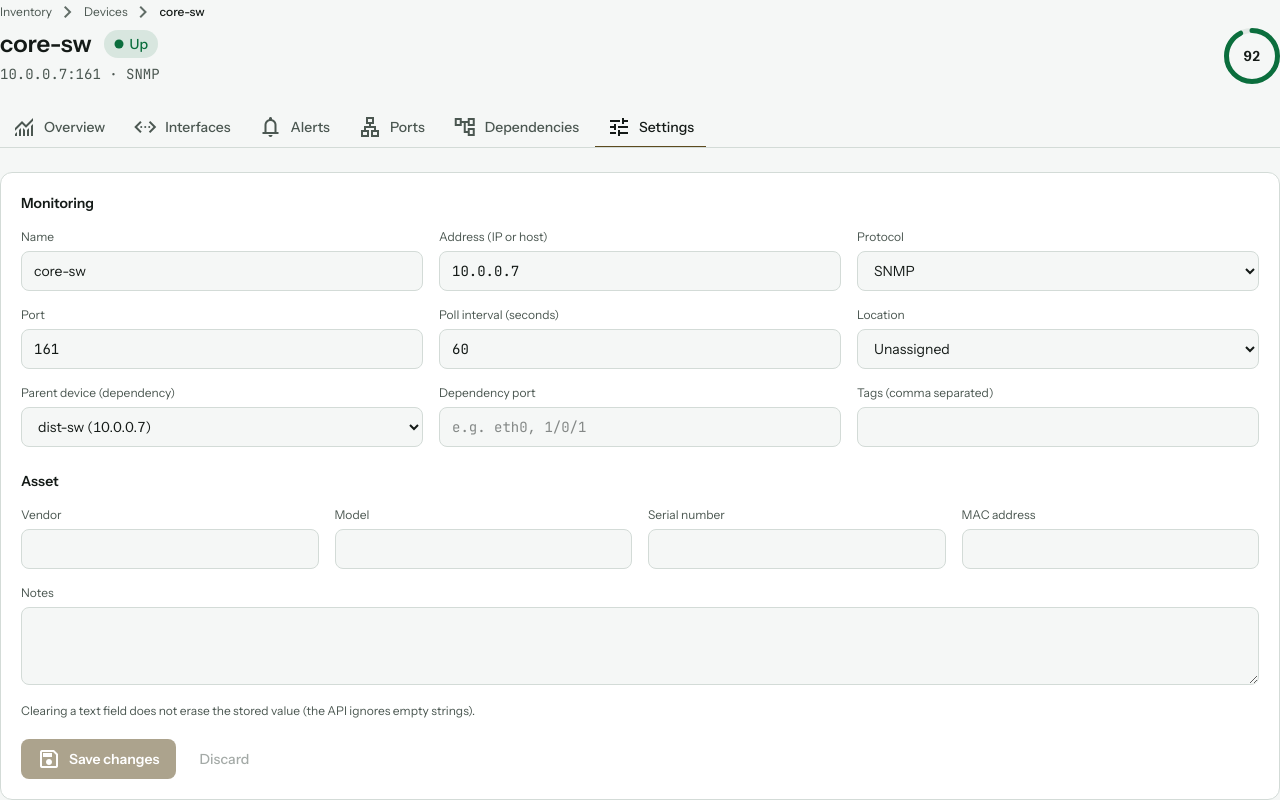
Test case: Device detail page › saves only changed fields and deletes after typing the name
Replace the text in the field labelled "Poll interval (seconds)" with "30" at (640, 349), box [439,329,841,369]
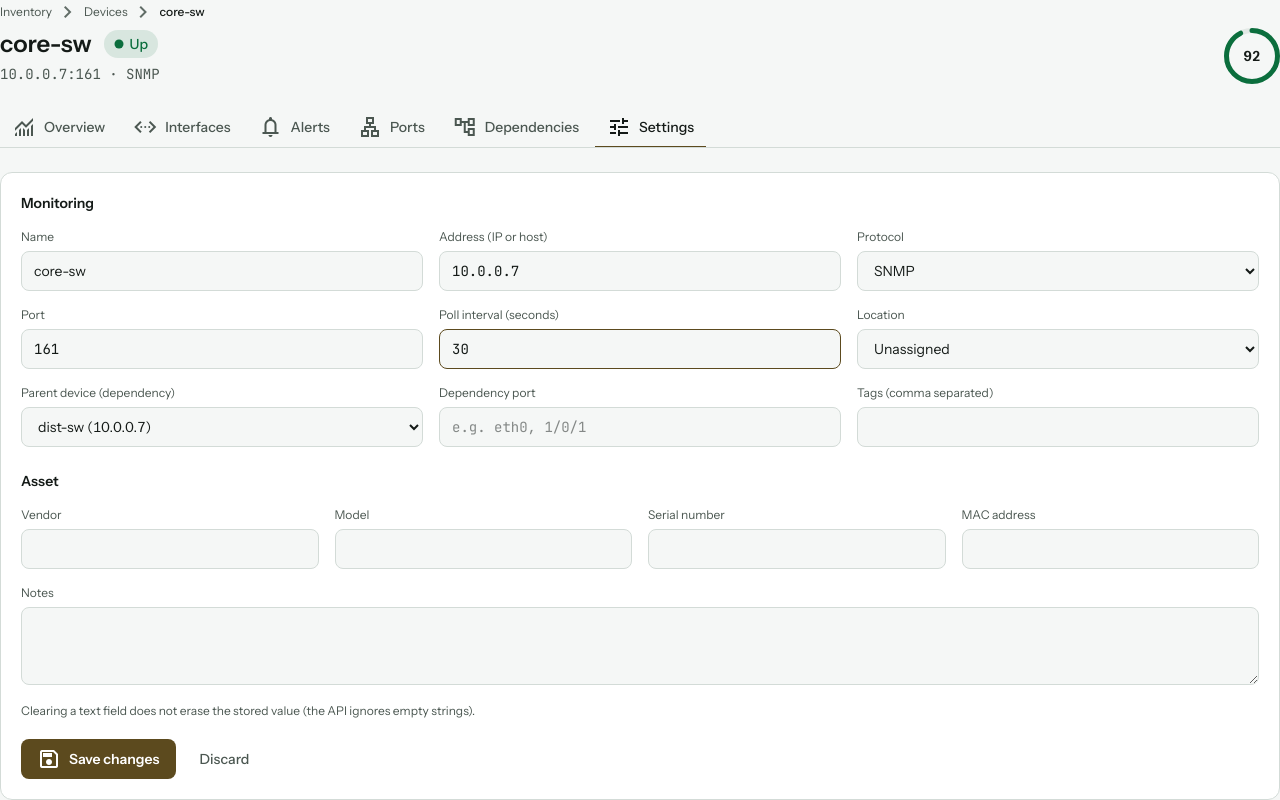
Click the button "Save changes" at (98, 759), box [21,739,176,779]
(page scrolled)
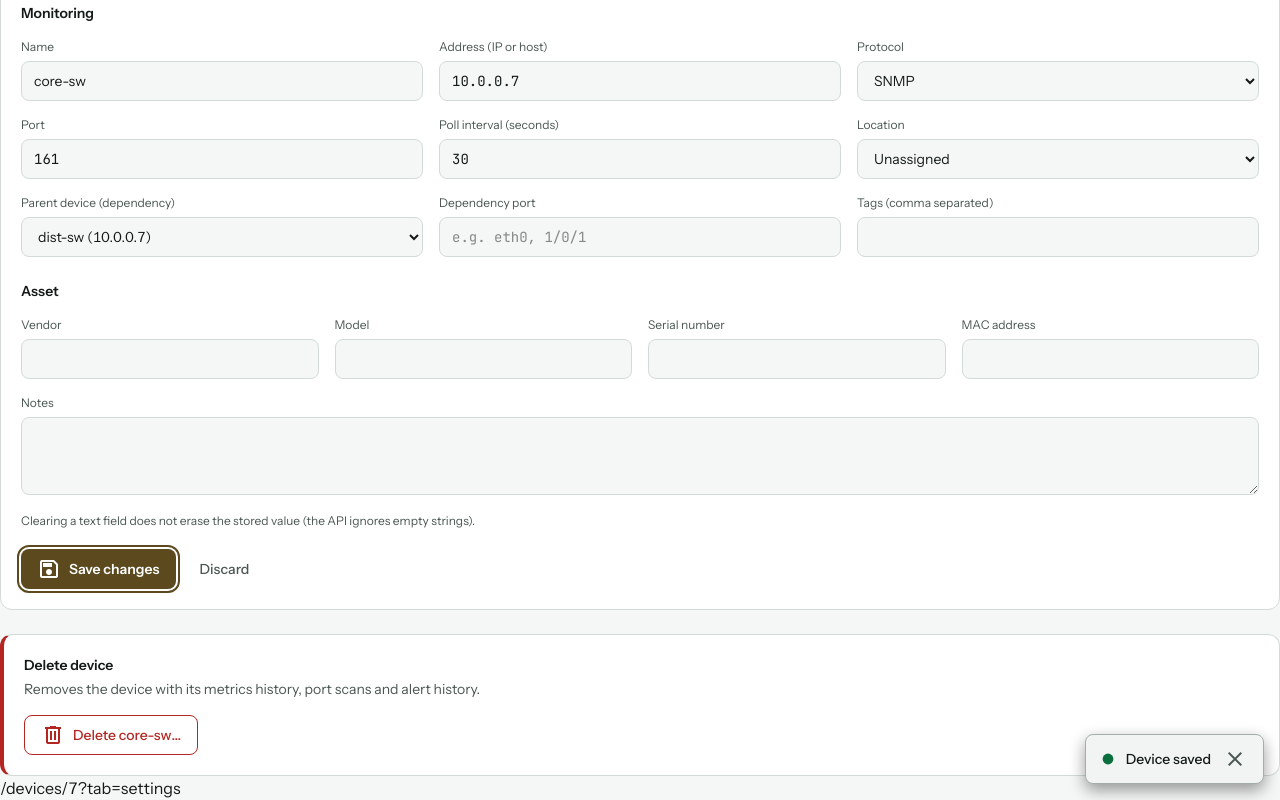
Check: the text "Device saved" is shown, box [1126,749,1211,769]
Click the button "Delete core-sw…" at (111, 735), box [24,715,198,755]
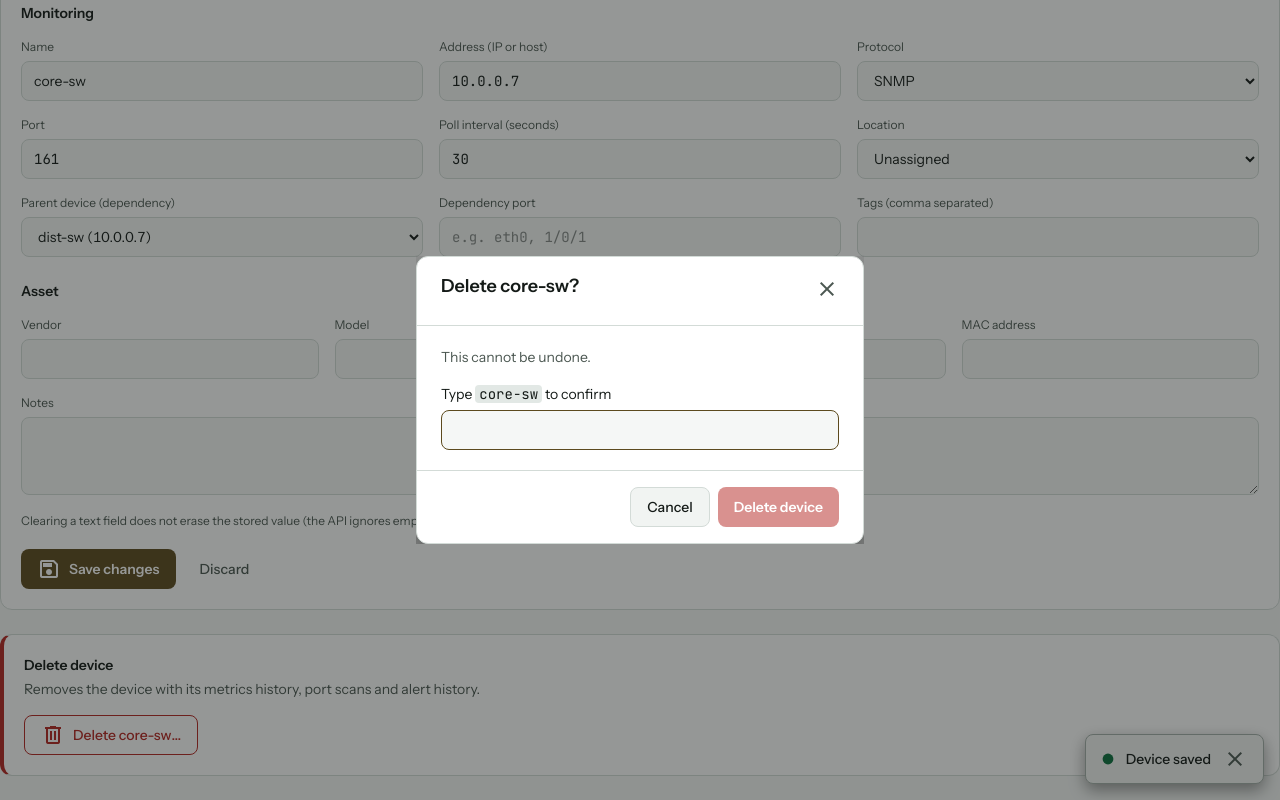
Type "core-s" into the field at (640, 430), box [441,410,839,450]
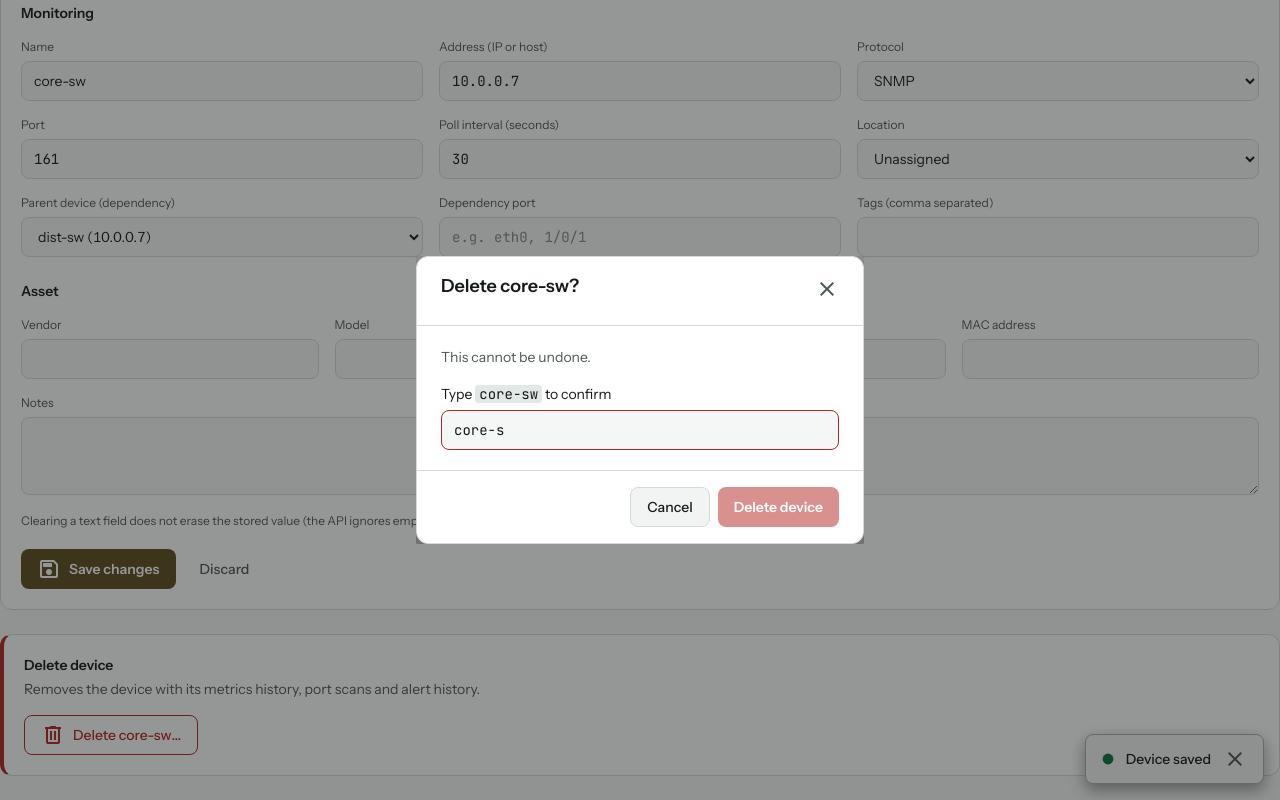
Check: the button "Delete device" is disabled, box [718,487,839,527]
Type "w" into the field at (640, 430), box [441,410,839,450]
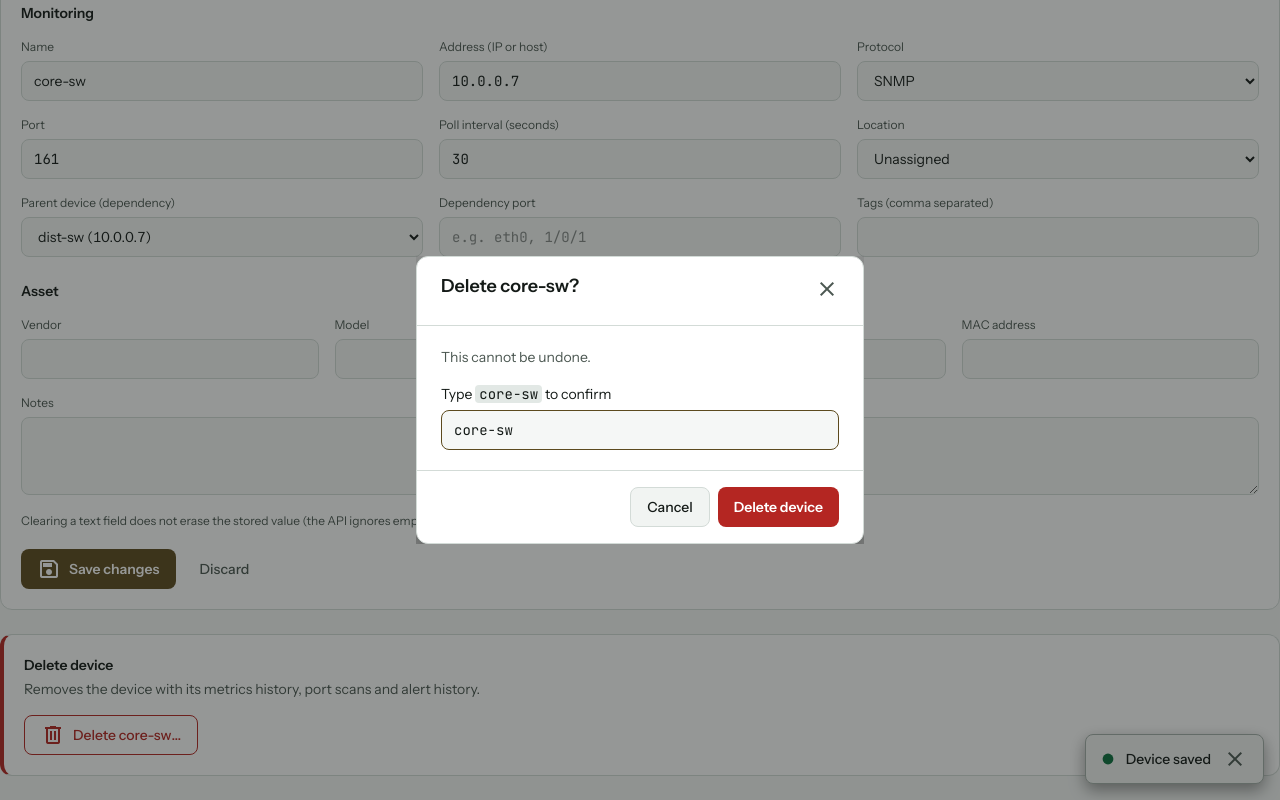
Click the button "Delete device" at (778, 507), box [718,487,839,527]
(page scrolled)
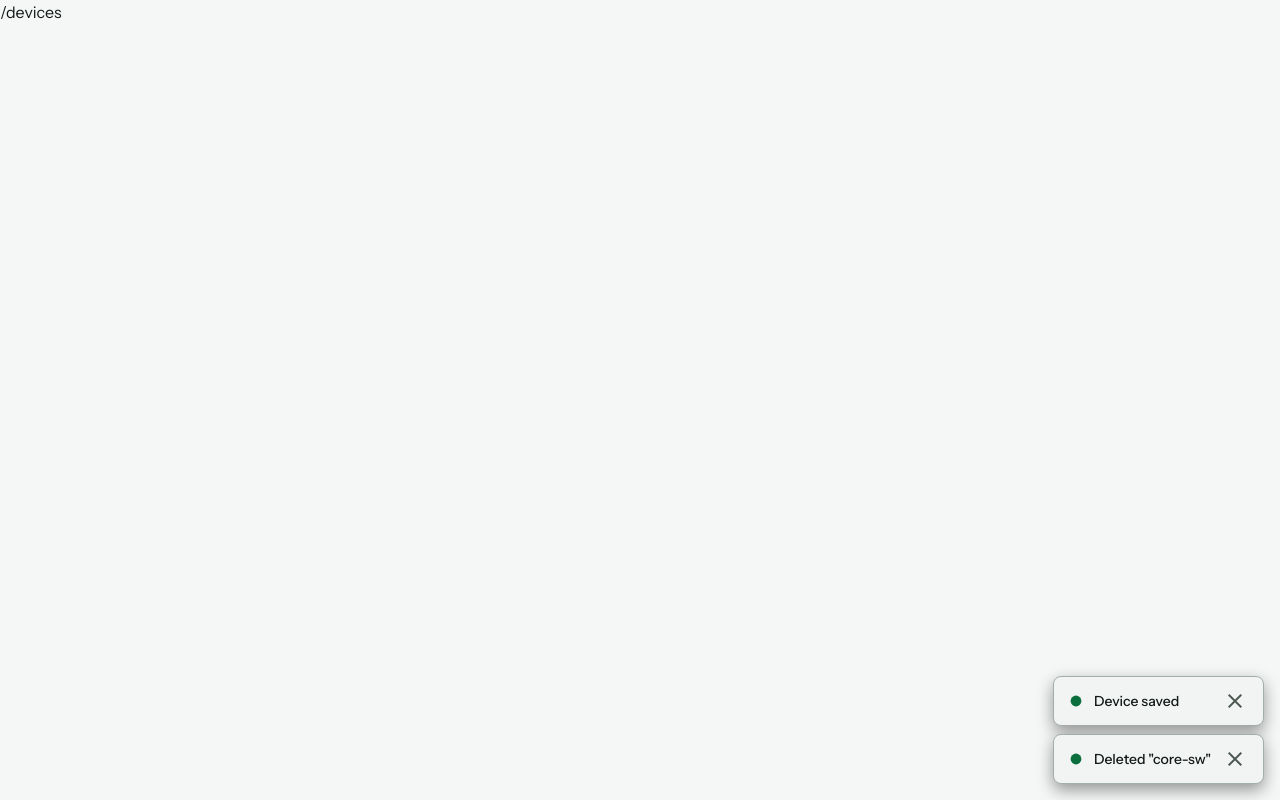
Check: the text with test id "location" reads "/devices", box [0,2,62,22]
